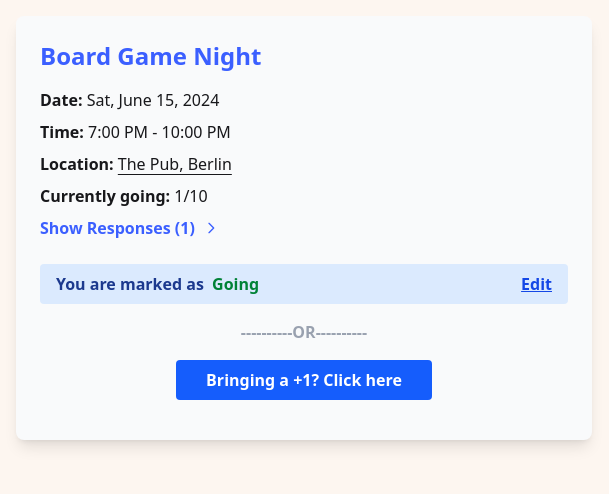
Test: EventDetailPage — RSVP form visibility › shows the RSVP form again when Edit is clicked
Step 1. Click the button "Edit" → (537, 284), box [521,272,552,296]
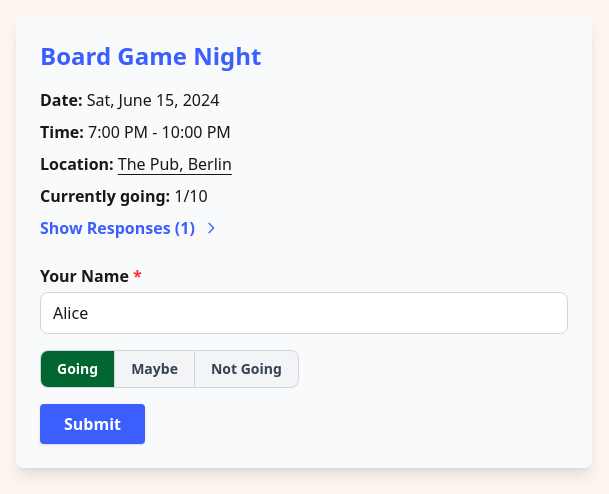
Now the button "Submit" is shown, box [40,404,145,444]
